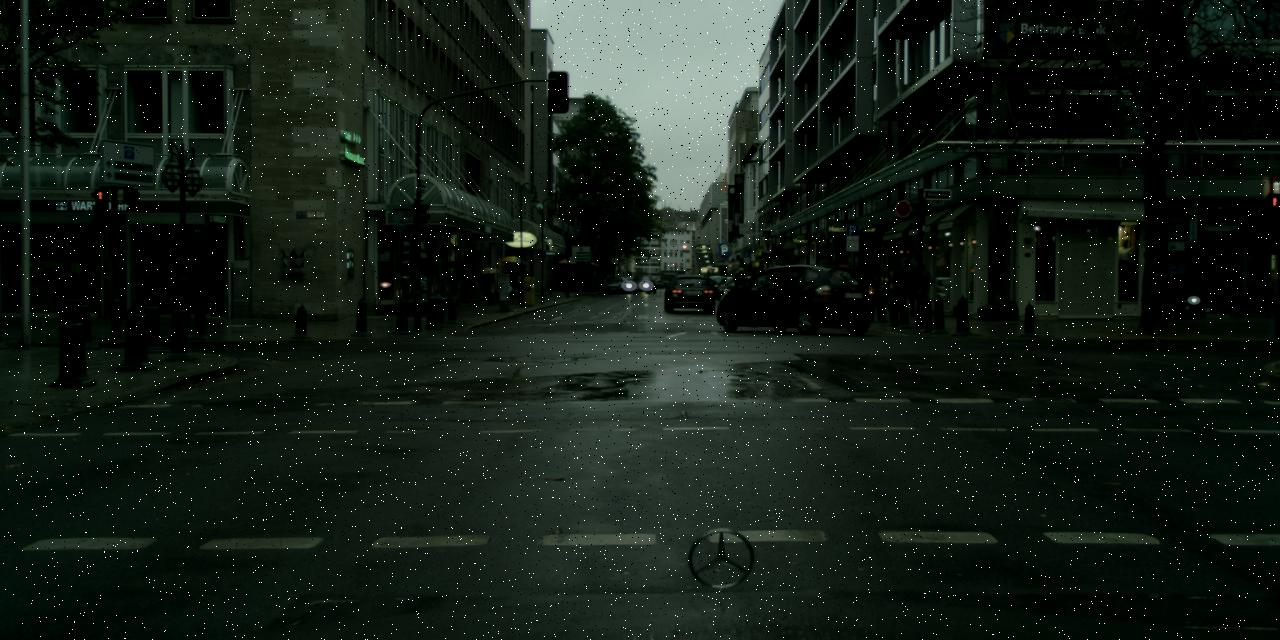ped: (132, 256, 159, 322), (896, 258, 919, 316), (835, 259, 856, 312), (912, 264, 932, 314), (731, 268, 748, 310), (501, 264, 517, 302), (483, 267, 498, 304), (513, 268, 526, 303)
